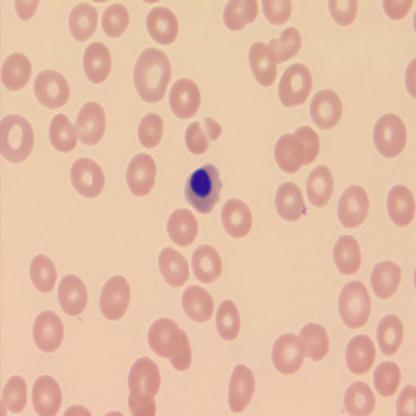NRC: (184, 162, 222, 214)
